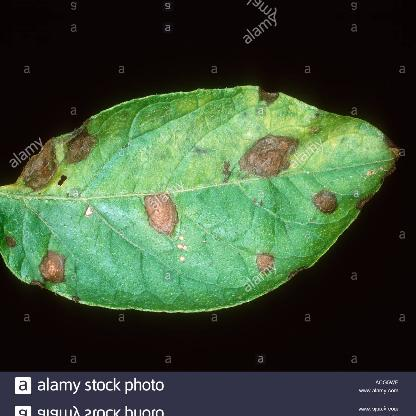Early-Blight: (0, 86, 402, 317)
